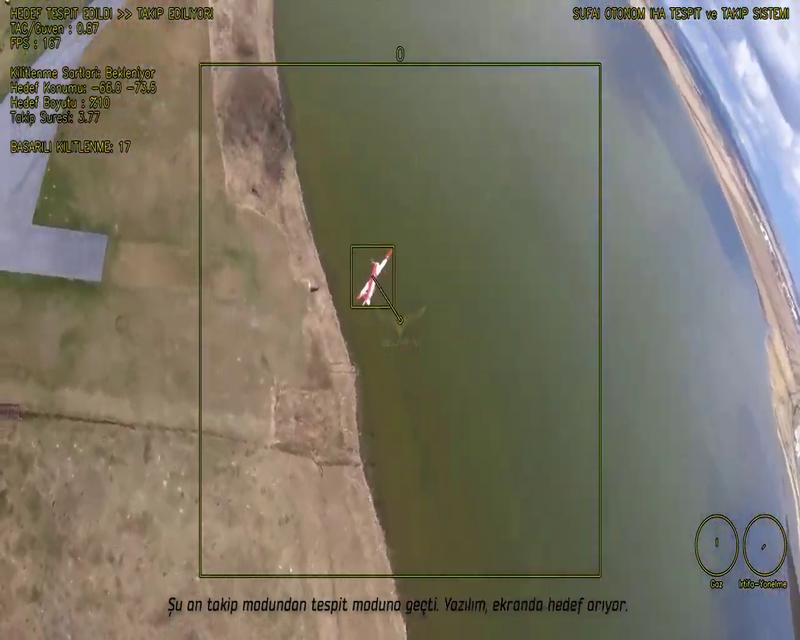UAV: (356, 247, 394, 306)
